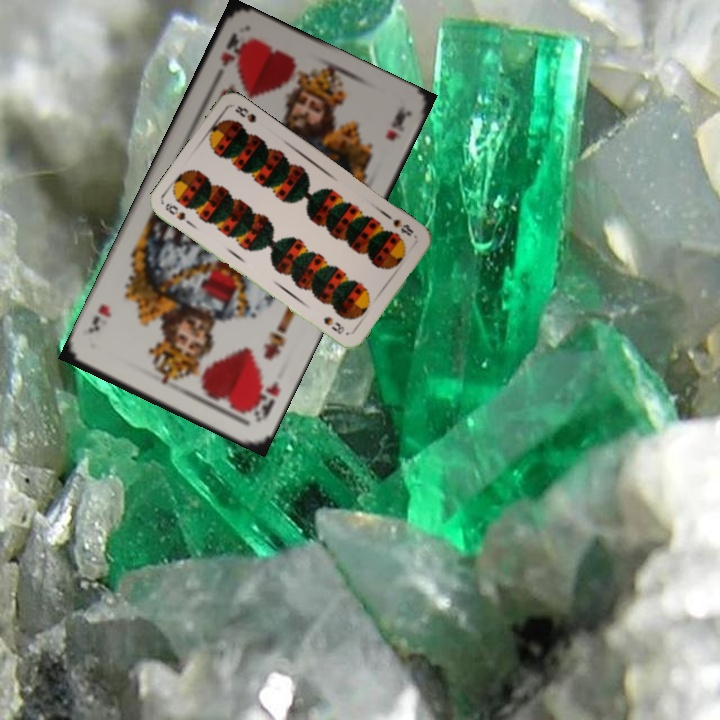HK: (210, 28, 247, 84), (246, 377, 283, 425)
S8: (161, 199, 196, 229), (389, 215, 416, 239)
